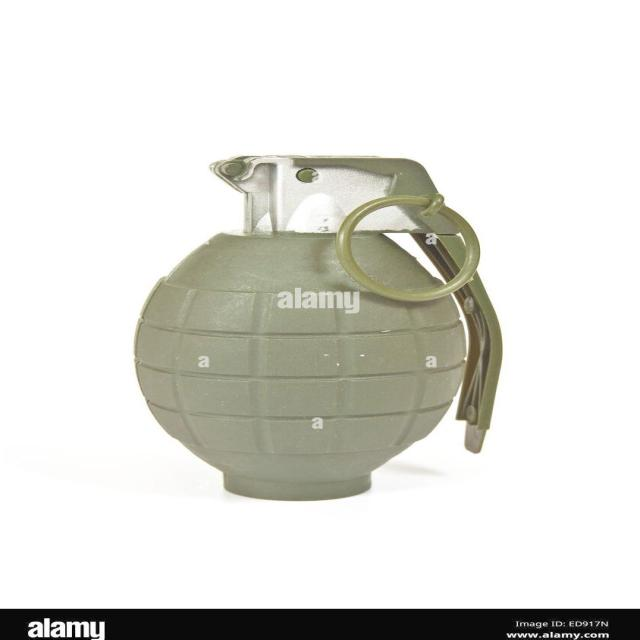grenade: (132, 153, 507, 503)
